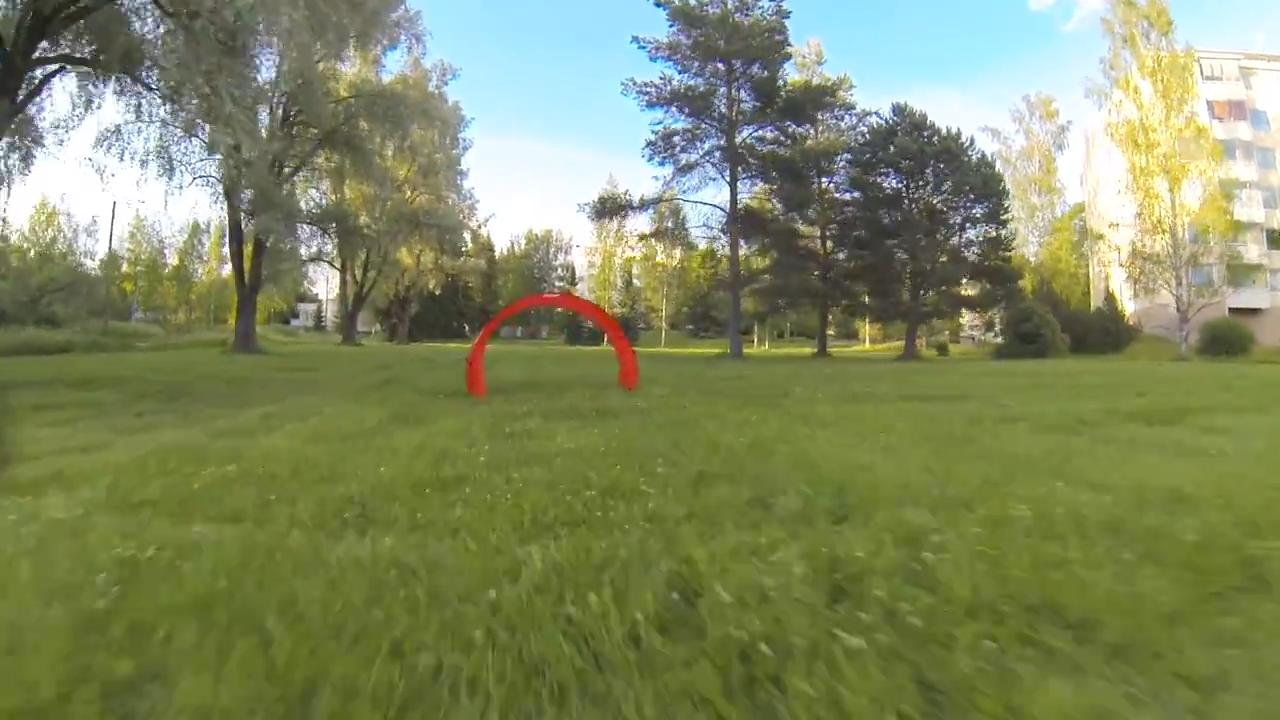gate: (462, 291, 644, 399)
